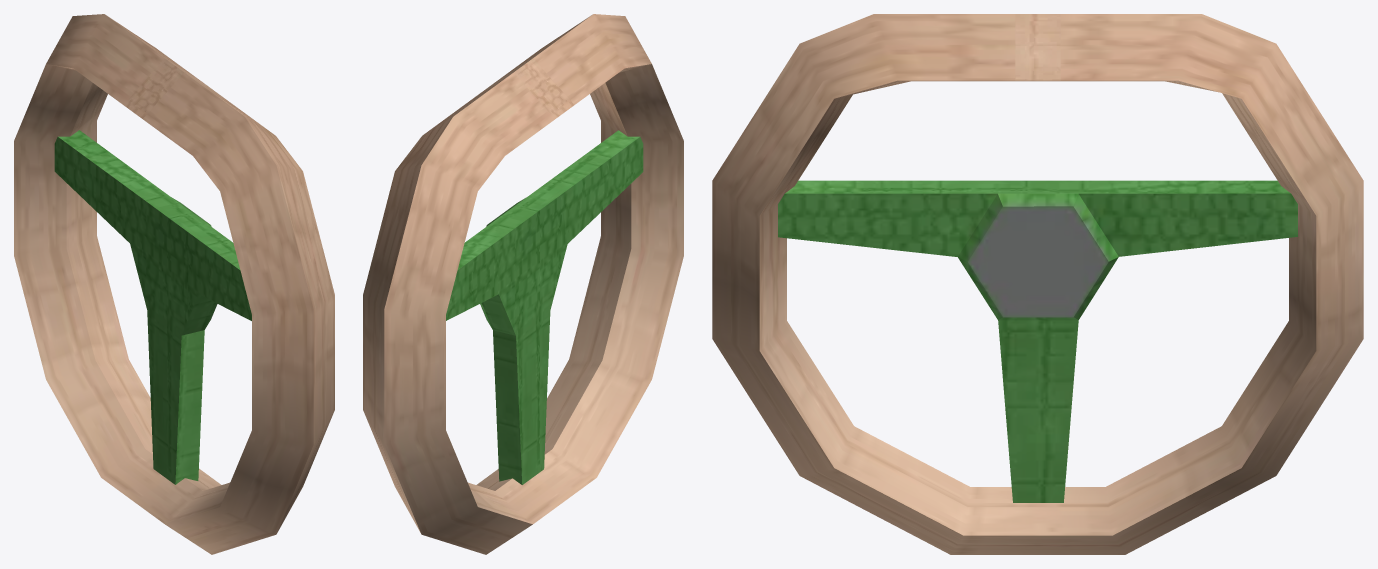
3 renders of one model, left to right at view 1: azimuth 30°, elevation 25°; view 2: azimuth 150°, elevation 25°; view 3: azimuth 270°, elevation 25°, orthographic. The views are drawn at different scales.
Visible parts, largest first — view 1: Wheel, INT_WHEEL_008; view 2: Wheel, INT_WHEEL_008; view 3: Wheel, INT_WHEEL_008.
Boxes of the visible parts, left/top/right/bottom form: Wheel: left=14, top=14, right=334, bottom=554; INT_WHEEL_008: left=54, top=130, right=251, bottom=484; Wheel: left=363, top=14, right=683, bottom=554; INT_WHEEL_008: left=446, top=130, right=643, bottom=484; Wheel: left=712, top=14, right=1363, bottom=554; INT_WHEEL_008: left=778, top=180, right=1297, bottom=502.
Size of the model in its own units: 0.4946 by 2.63 by 2.87.
2 materials, 2 textured.
